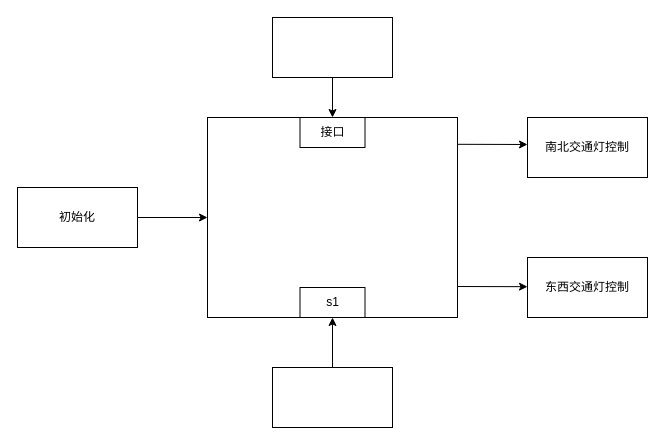
This 665x445 diagram has some shape labels left out. The shapes that lost their labels are listed below. From the top down, each one's box as (x1, y1, x2, y2) in pixels, then its label:
(272, 16, 392, 78): 串口输入设备
(206, 116, 458, 318): LPC2138芯片
(272, 366, 392, 428): 夜间模式开关
